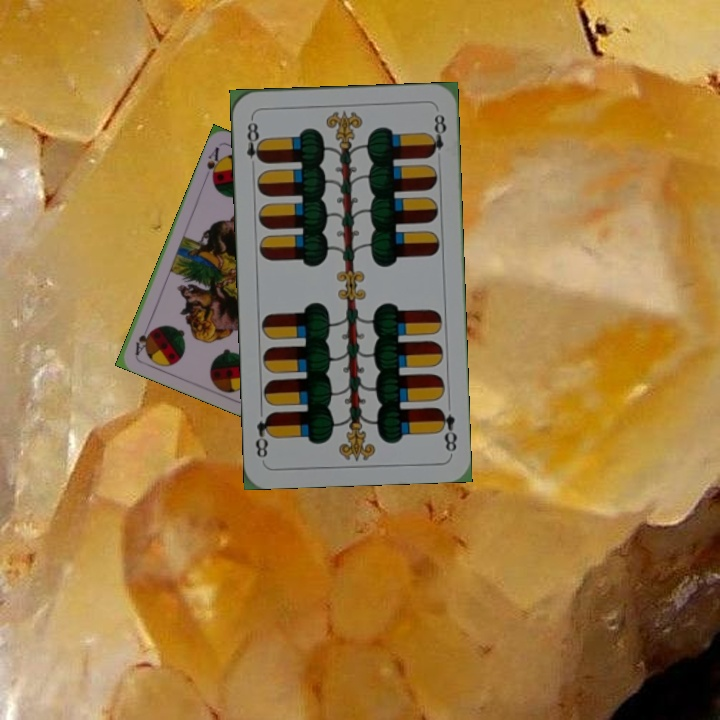E8: (434, 403, 460, 454), (243, 114, 266, 166)
SA: (203, 143, 224, 183)
